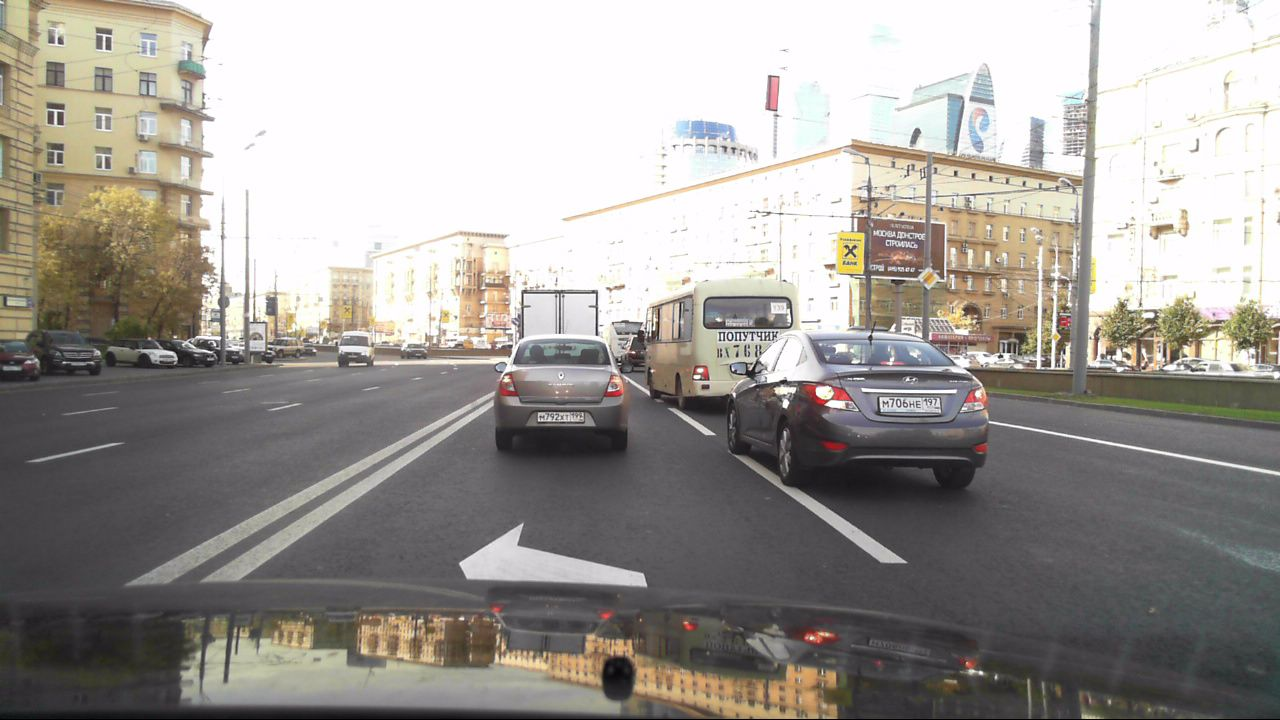main road: (918, 265, 941, 290)
